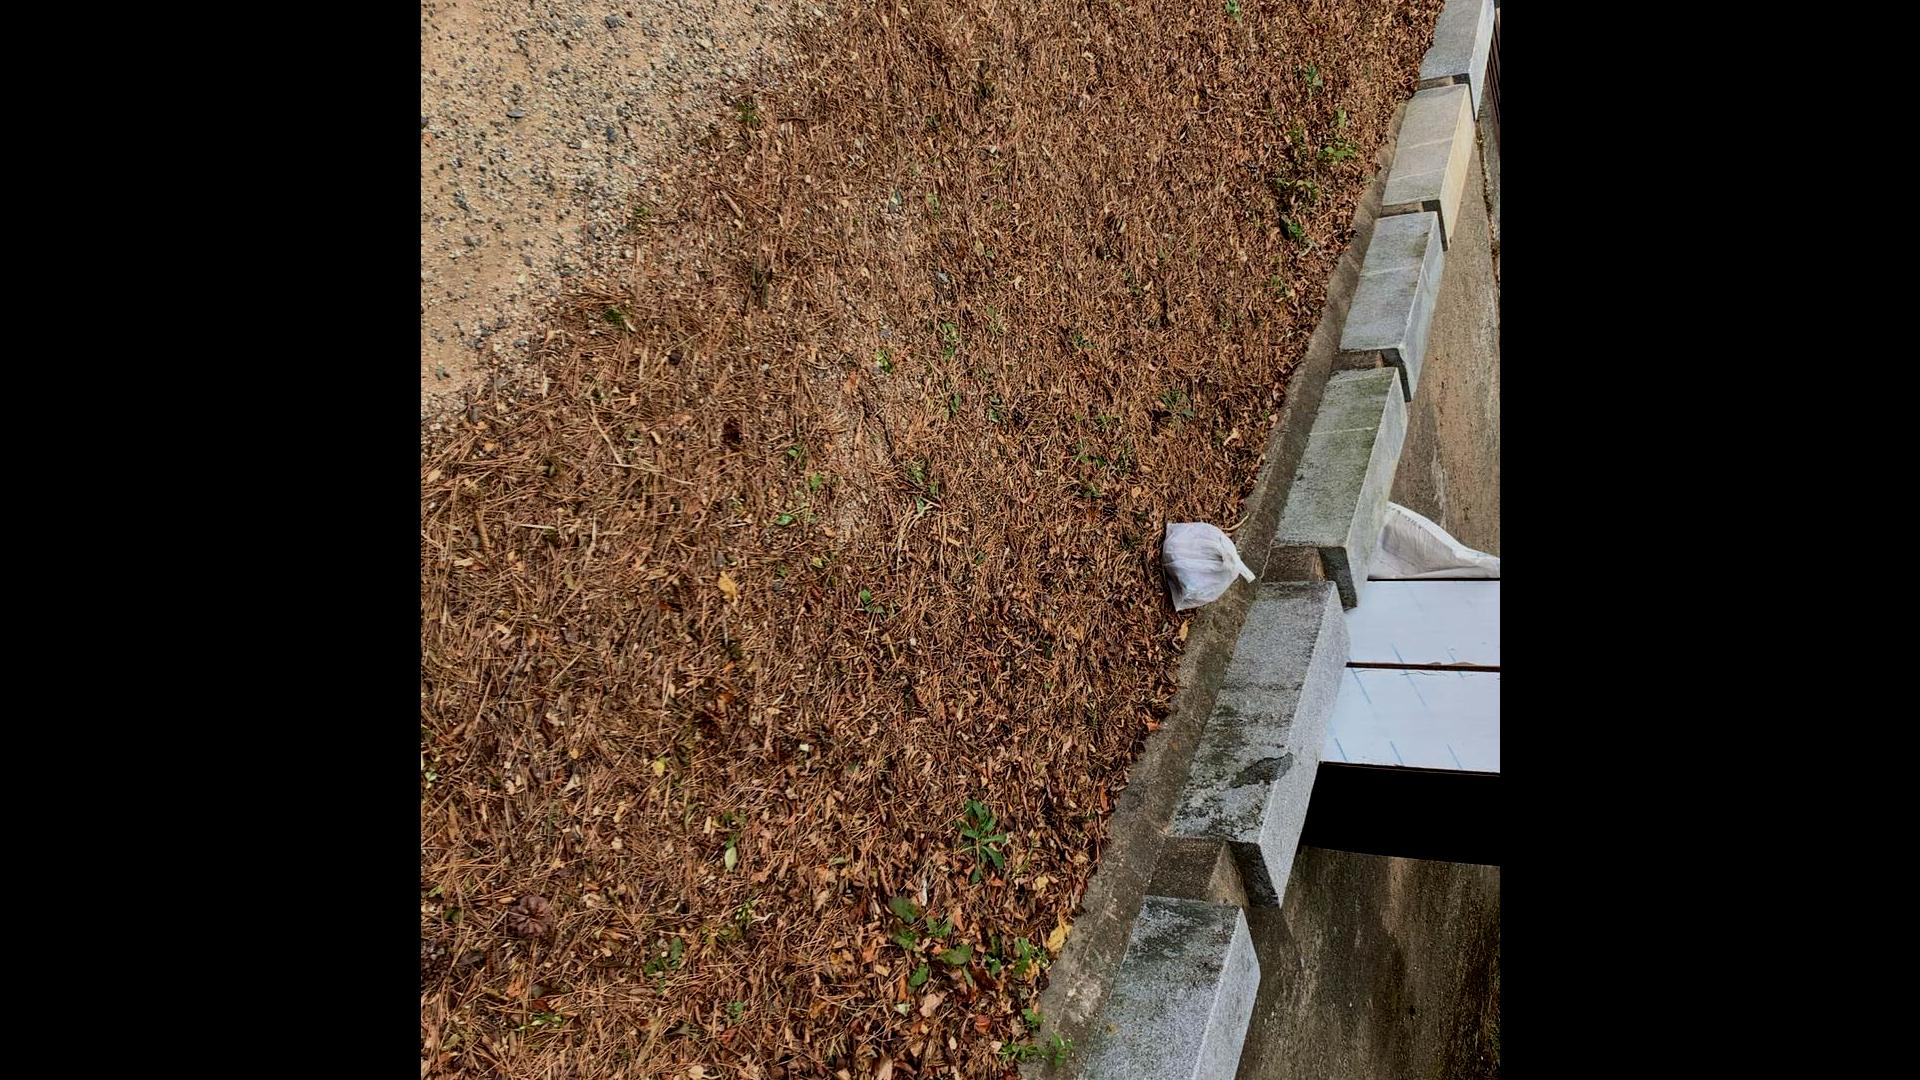white_bag: (1156, 505, 1261, 621)
